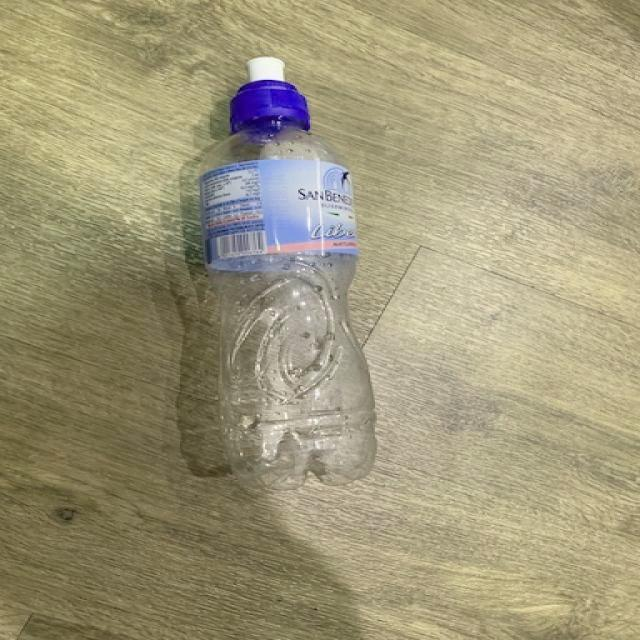bottle: (199, 57, 376, 491)
